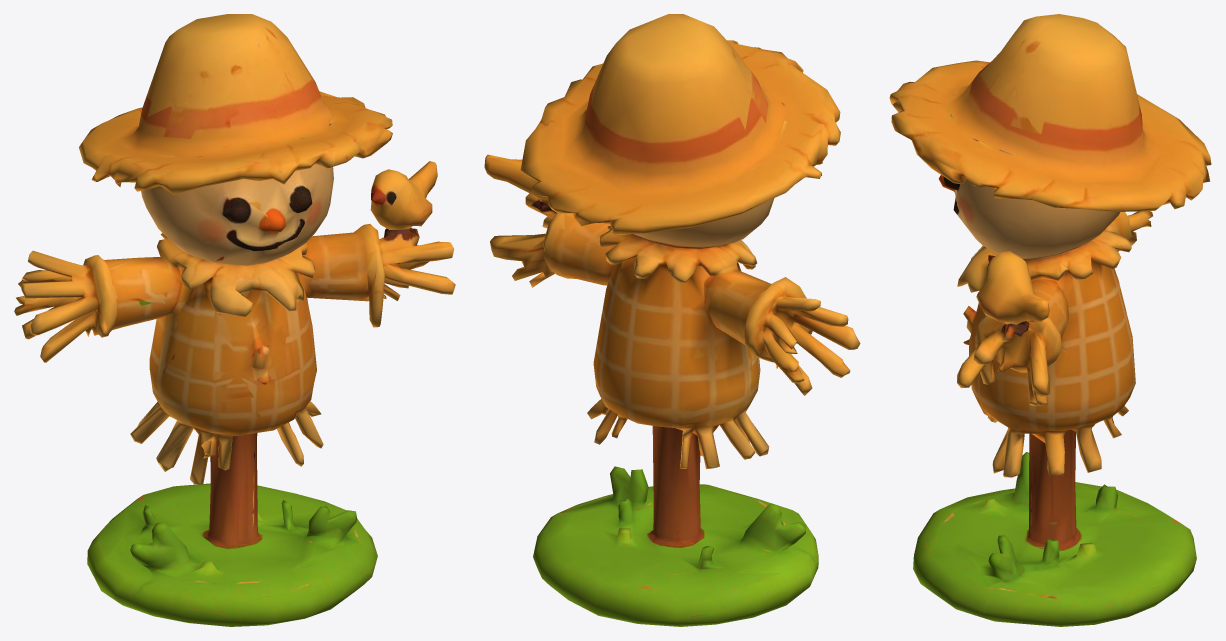
3 views of the same model, side by side, from view 1: azimuth 30°, elevation 25°; view 2: azimuth 150°, elevation 25°; view 3: azimuth 270°, elevation 25° (orthographic).
Parts seen in each view (by area): view 1: scarecrow; view 2: scarecrow; view 3: scarecrow.
Boxes of the visible parts, x1,y1,x2,y2 form: scarecrow: (14, 14, 455, 626); scarecrow: (484, 14, 860, 626); scarecrow: (889, 14, 1211, 626).
Bounding box in the file's own units: 1.41 × 1.9 × 1.01.
1 material, 1 textured.
